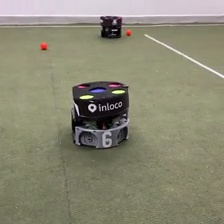ball: (39, 40, 48, 50), (124, 29, 132, 36)
robot: (68, 78, 131, 149), (98, 15, 123, 38)
